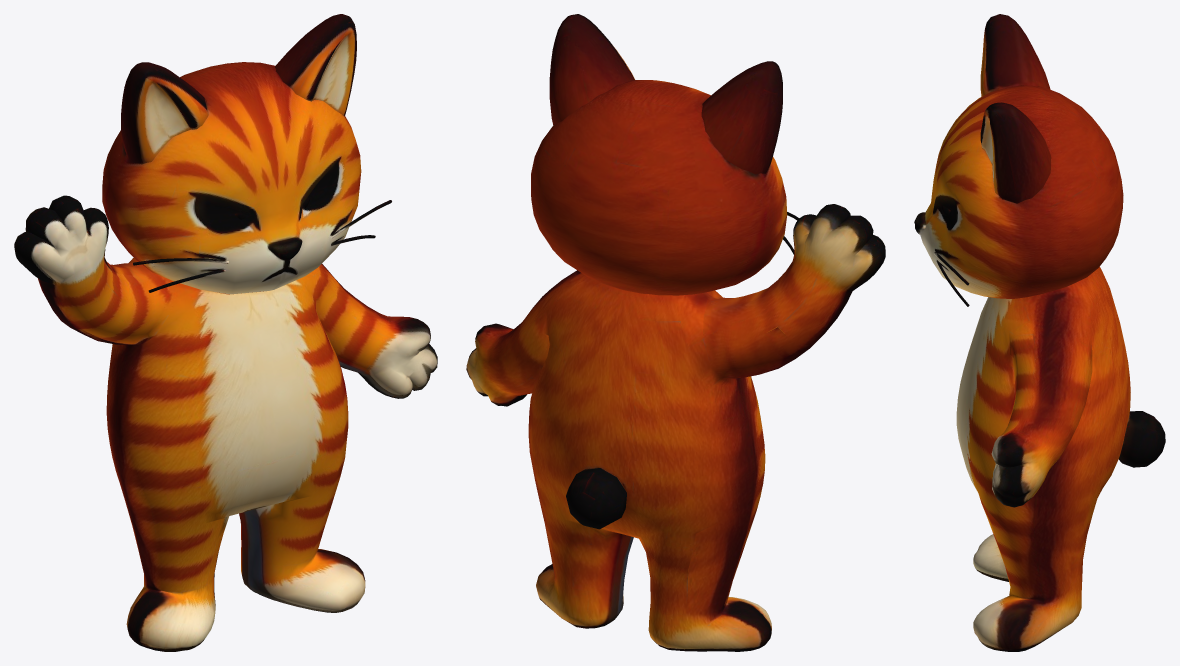
Rendered from third.obj.
The picture shows the model from 3 angles, left to right: view 1: azimuth 30°, elevation 25°; view 2: azimuth 150°, elevation 25°; view 3: azimuth 270°, elevation 25°; orthographic projection. The views are drawn at different scales.
Visible parts, largest first — view 1: tripo_481e1b57_b69d_4c0e_a83d_074ca298a950; view 2: tripo_481e1b57_b69d_4c0e_a83d_074ca298a950; view 3: tripo_481e1b57_b69d_4c0e_a83d_074ca298a950.
Part boxes in pixels (left/top/right/bottom): tripo_481e1b57_b69d_4c0e_a83d_074ca298a950: left=14, top=14, right=437, bottom=651; tripo_481e1b57_b69d_4c0e_a83d_074ca298a950: left=466, top=14, right=885, bottom=651; tripo_481e1b57_b69d_4c0e_a83d_074ca298a950: left=914, top=14, right=1165, bottom=651.
Size of the model in its own units: 0.7407 by 0.9995 by 0.4189.
1 material, 1 textured.
